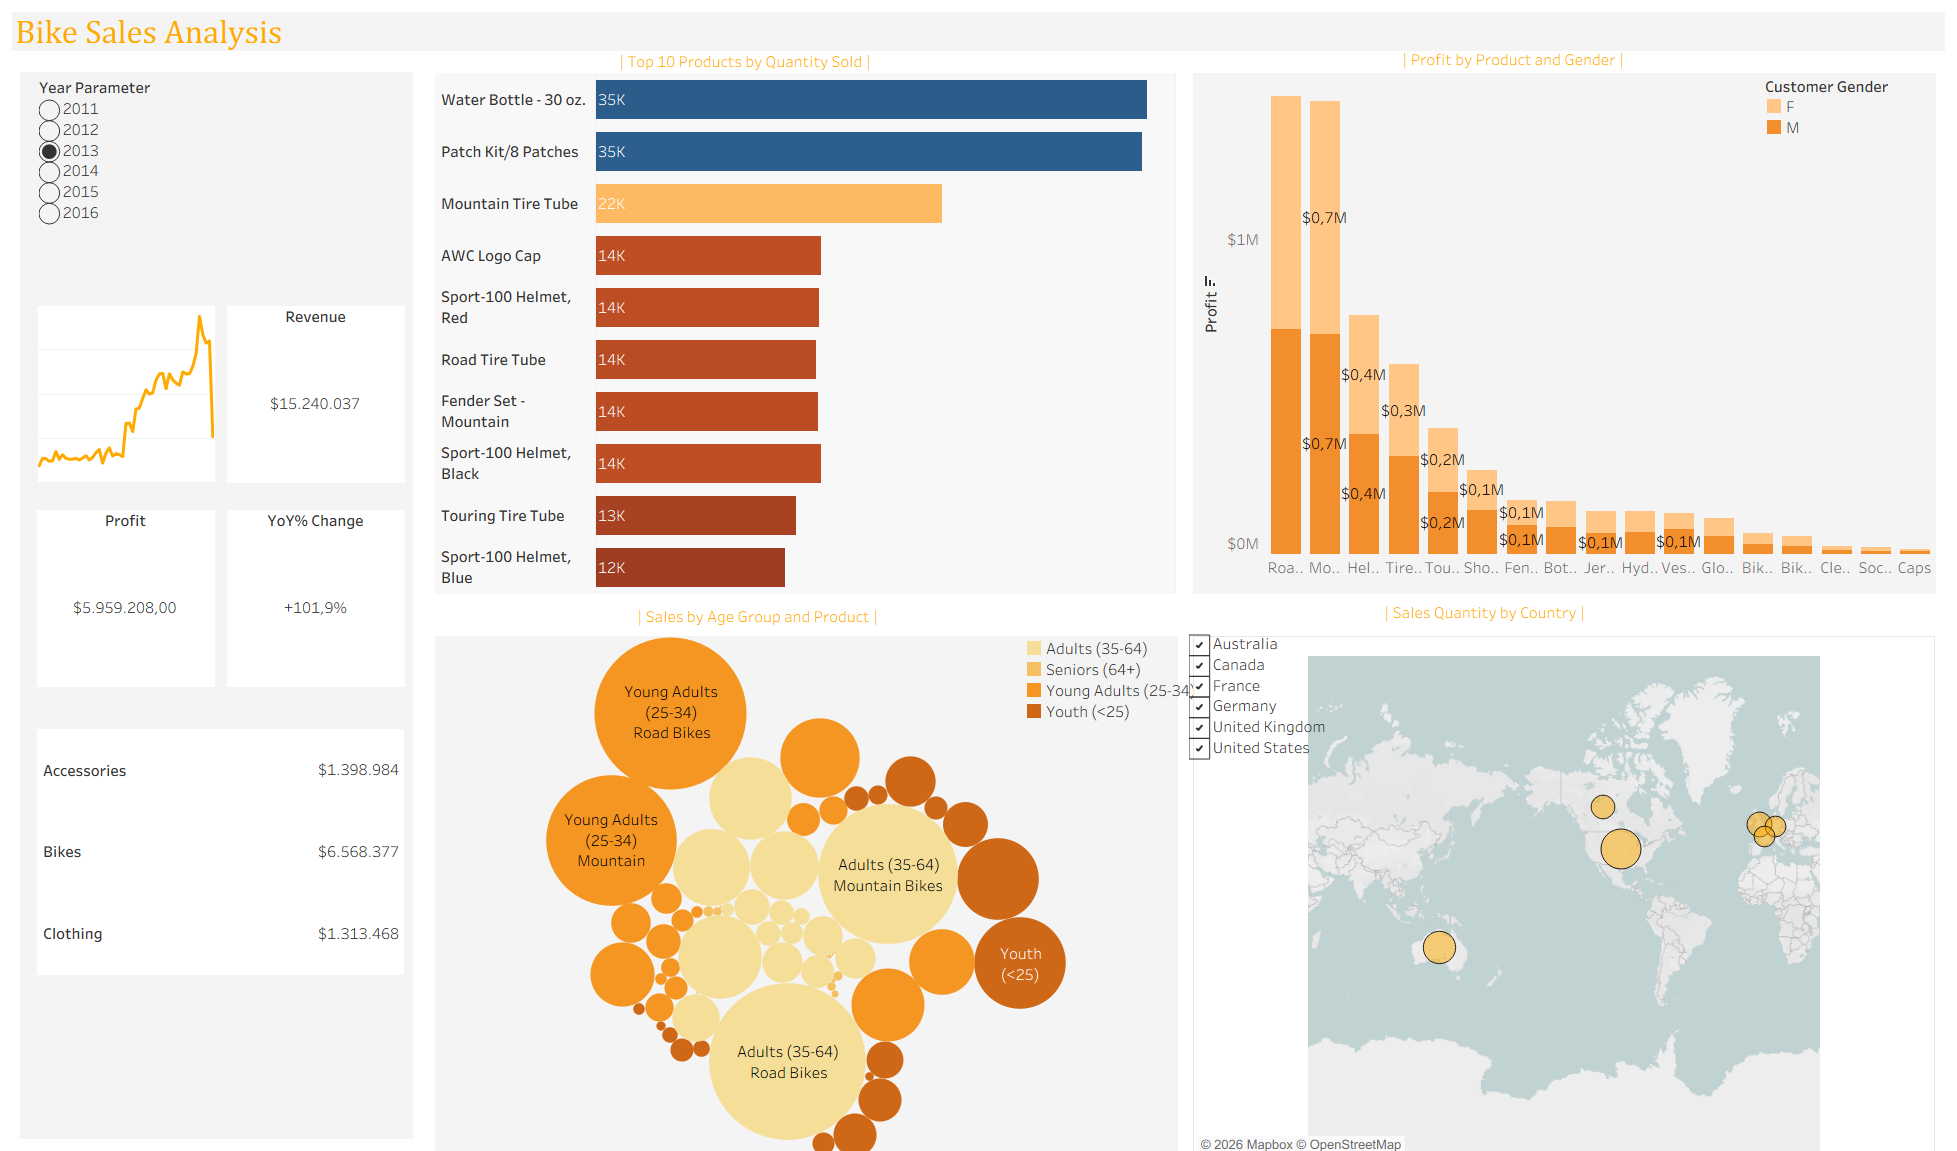

What the dashboard file says about the page in this screenshot:
{"tool":"tableau","page":{"name":"Sales Dashboard","canvas":[1957,1151],"ordinal":0},"visuals":[{"type":"title","box":[8,8,1941,47]},{"type":"text","box":[1389,34,401,50]},{"type":"text","box":[606,36,401,50]},{"type":"blank","box":[8,55,1941,1088]},{"type":"worksheet","title":"Top 10 Products","mark":"Bar","rows":["Product"],"box":[434.8,72.7,741.1,520.8]},{"type":"worksheet","title":"Sub Categories Barchart","mark":"Automatic","rows":["Profit"],"cols":["Sub_Category"],"box":[1192.9,73,741.7,520.7]},{"type":"legend","title":"Sub Categories Barchart","param":"[federated.0j3qr1v1o1a5m914ikhsj16iezph].[none:Customer_Gender:nk]","box":[1764.5,74.4,165.3,86.6]},{"type":"parameter","param":"[Parameters].[Parameter 1]","box":[39,75.7,362.6,209.6]},{"type":"worksheet","title":"Revenue Line Chart","mark":"Automatic","rows":["Revenue"],"cols":["Date"],"box":[36.6,305.7,177.2,175.8]},{"type":"worksheet","title":"Revenue Card","mark":"Automatic","cols":["Calculation_0225456724533256"],"box":[226.8,305.7,177.2,175.8]},{"type":"worksheet","title":"Profit Card","mark":"Automatic","cols":["Calculation_0225456721137665"],"box":[36.6,509.9,177.2,175.8]},{"type":"worksheet","title":"YoY Percent Change","mark":"Automatic","cols":["Calculation_0225456723623943"],"box":[226.8,509.9,177.2,175.8]},{"type":"text","box":[1371.2,587,401.6,50]},{"type":"text","box":[623.6,591.1,401.6,50]},{"type":"filter","title":"Age Group Bubble Chart","param":"[federated.0j3qr1v1o1a5m914ikhsj16iezph].[none:Country:nk]","box":[1189.3,633,189,255.6]},{"type":"worksheet","title":"Age Group Bubble Chart","mark":"Circle","box":[434.6,635.7,741.7,520.7]},{"type":"worksheet","title":"Map","mark":"Automatic","box":[1192.9,635.7,741.7,520.7]},{"type":"legend","title":"Age Group Bubble Chart","param":"[federated.0j3qr1v1o1a5m914ikhsj16iezph].[none:Age_Group:nk]","box":[1024,638.4,259.8,156.9]},{"type":"worksheet","title":"Cost Chart","mark":"Automatic","rows":["Product_Category"],"box":[36.6,729,366.1,244.8]}]}

Visuals, with their boxes in screenshot pixels (x1, y1, x2, y2), scaled from the page's 1957x1151 canvas onto the 1957x1151 screenshot:
title: [8,8,1949,55]
text: [1389,34,1790,84]
text: [606,36,1007,86]
blank: [8,55,1949,1143]
"Top 10 Products" worksheet (Bar marks): [435,73,1176,594]
"Sub Categories Barchart" worksheet: [1193,73,1935,594]
"Sub Categories Barchart" legend: [1764,74,1930,161]
parameter: [39,76,402,285]
"Revenue Line Chart" worksheet: [37,306,214,482]
"Revenue Card" worksheet: [227,306,404,482]
"Profit Card" worksheet: [37,510,214,686]
"YoY Percent Change" worksheet: [227,510,404,686]
text: [1371,587,1773,637]
text: [624,591,1025,641]
"Age Group Bubble Chart" filter: [1189,633,1378,889]
"Age Group Bubble Chart" worksheet (Circle marks): [435,636,1176,1150]
"Map" worksheet: [1193,636,1935,1150]
"Age Group Bubble Chart" legend: [1024,638,1284,795]
"Cost Chart" worksheet: [37,729,403,974]
